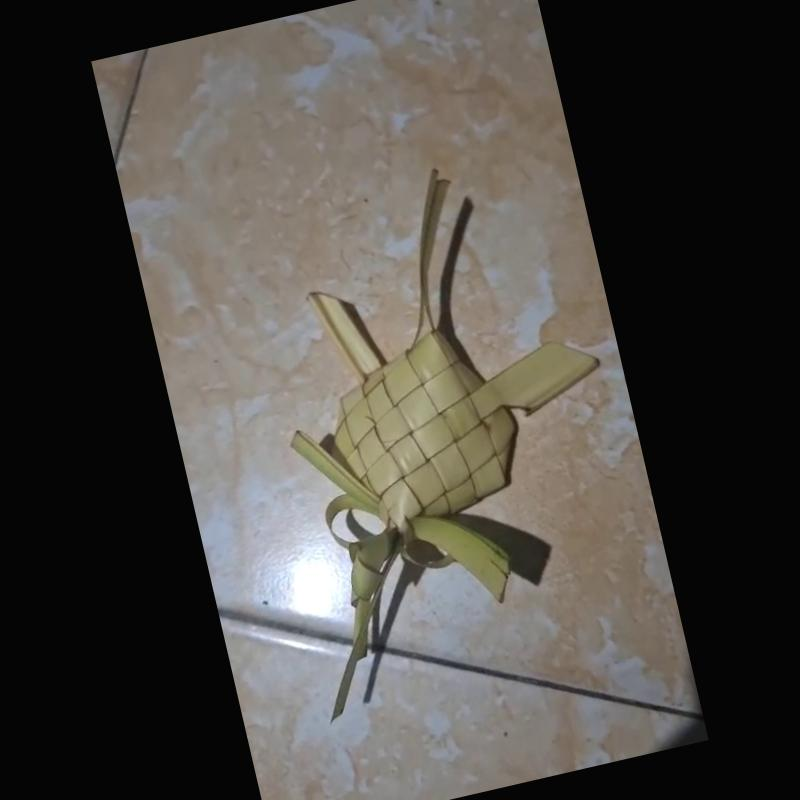Tipat Dampulan: (289, 165, 601, 727)
